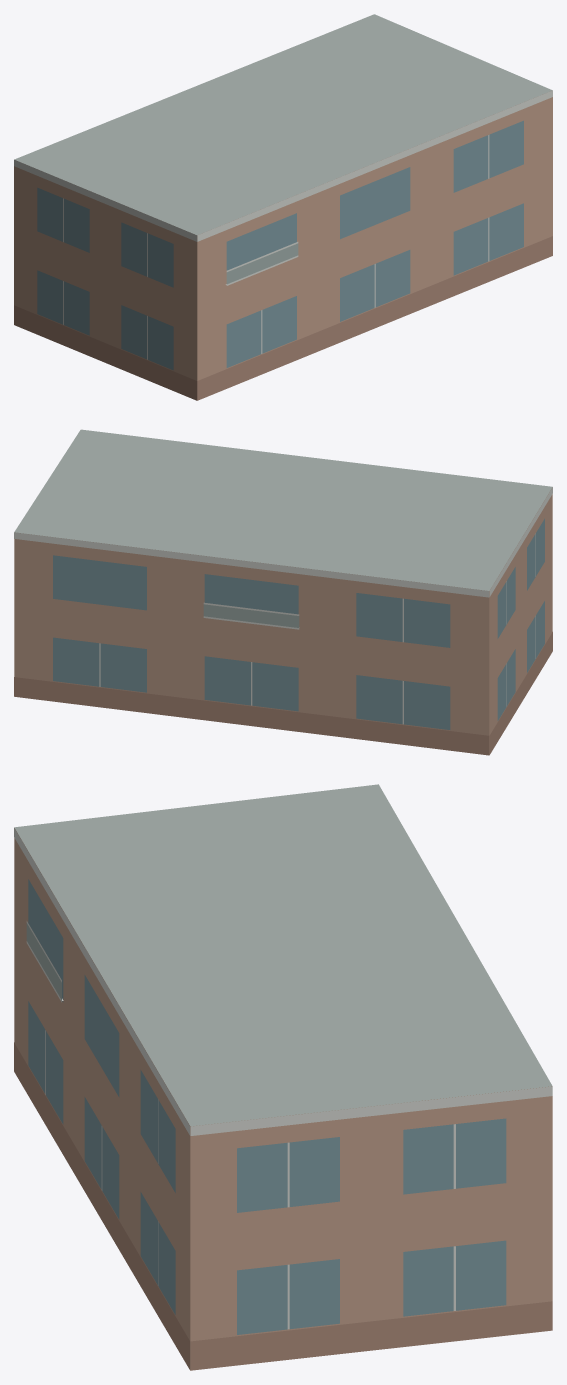
File: survey-upis-32774325.glb
The picture shows the model from 3 angles, top to bottom: view 1: azimuth 30°, elevation 25°; view 2: azimuth 150°, elevation 25°; view 3: azimuth 270°, elevation 25°; orthographic projection. The views are drawn at different scales.
Visible parts, largest first — view 1: survey-upis-32774325.tmp; view 2: survey-upis-32774325.tmp; view 3: survey-upis-32774325.tmp.
Boxes of the visible parts, x1=… form: survey-upis-32774325.tmp: x1=14, y1=14, x2=552, y2=400; survey-upis-32774325.tmp: x1=14, y1=429, x2=552, y2=755; survey-upis-32774325.tmp: x1=14, y1=784, x2=552, y2=1370.
Size of the model in its own units: 18.34 by 6.1 by 12.2.
